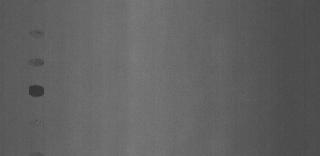oil spot: (27, 84, 45, 100), (27, 55, 46, 68), (28, 28, 44, 38)
